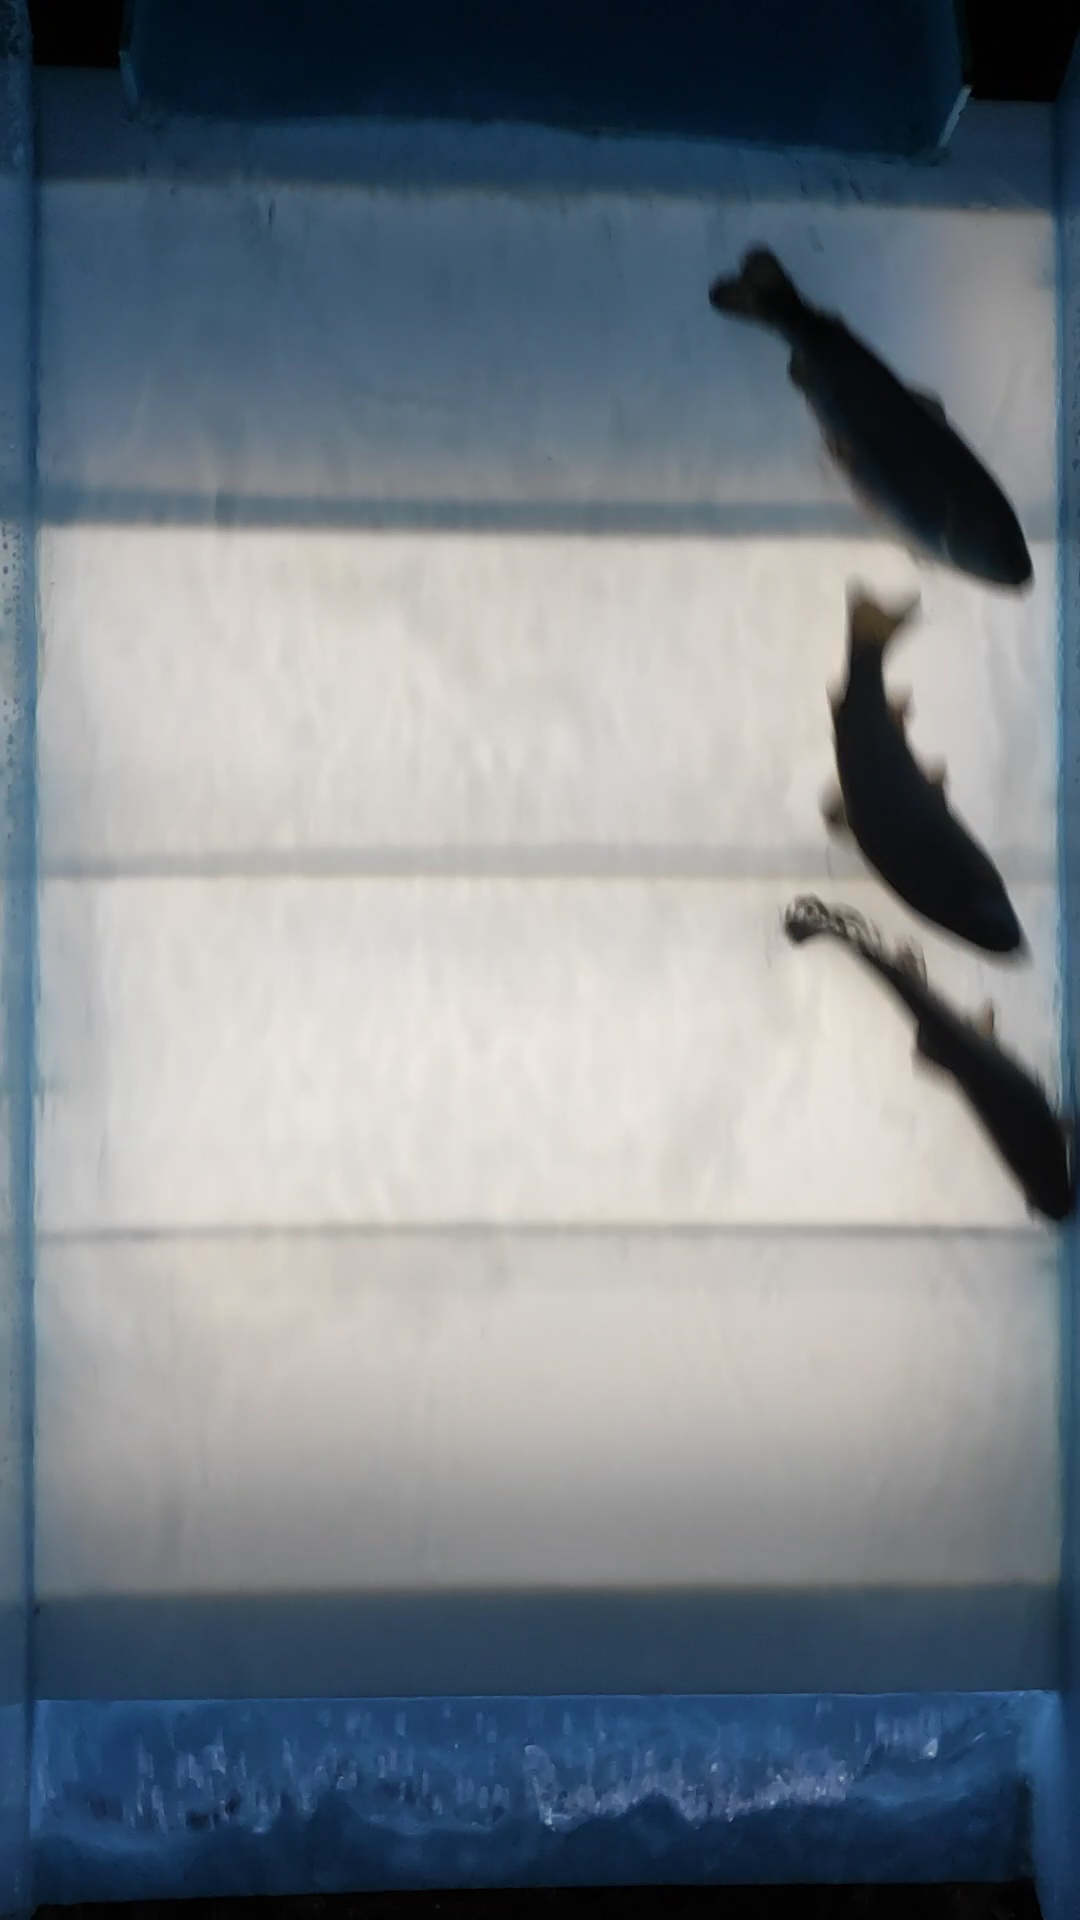fish: (702, 245, 1044, 597), (771, 889, 1080, 1236), (816, 589, 1029, 963)
